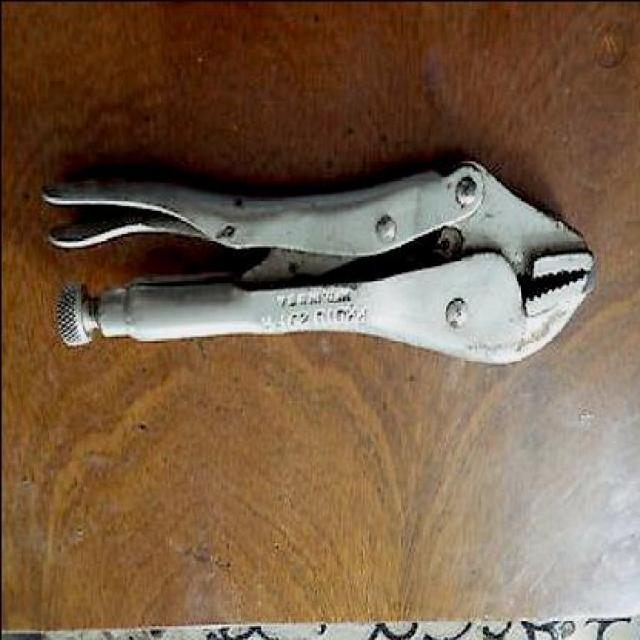pliers: (35, 153, 602, 367)
